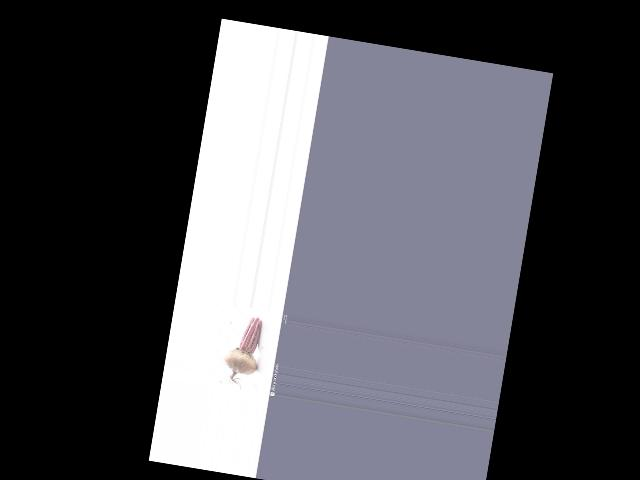beet: (220, 313, 265, 390)
